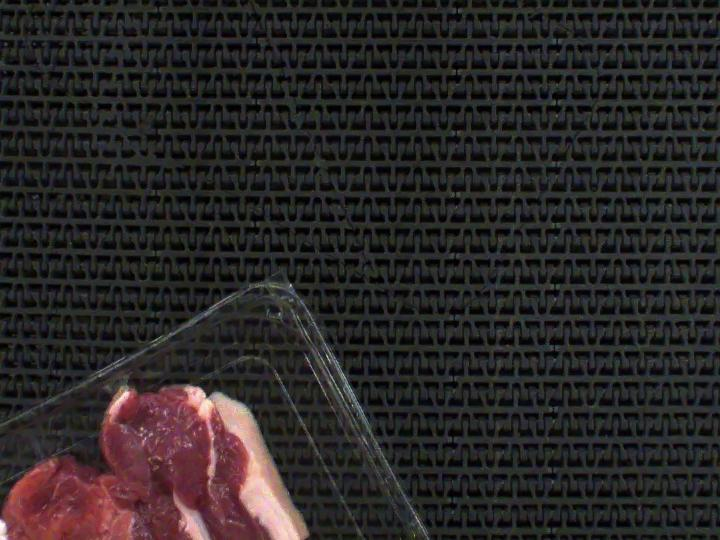packaging-error: (94, 370, 133, 397)
